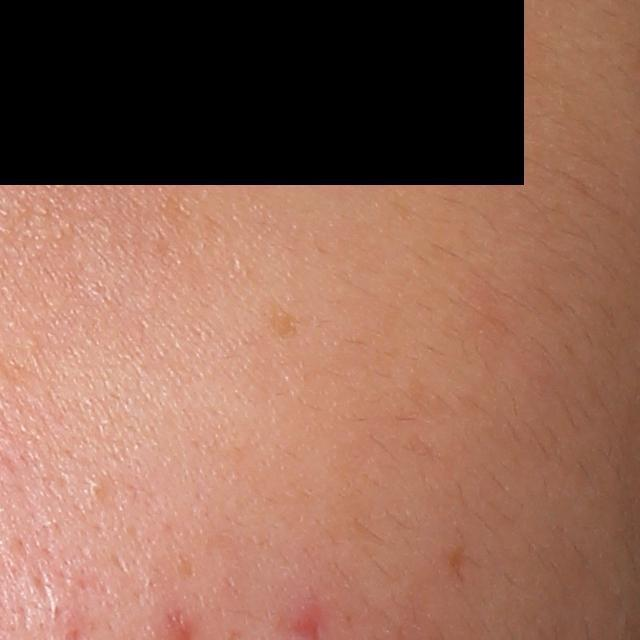comedo: (84, 477, 105, 496)
melasma: (262, 294, 307, 346)
